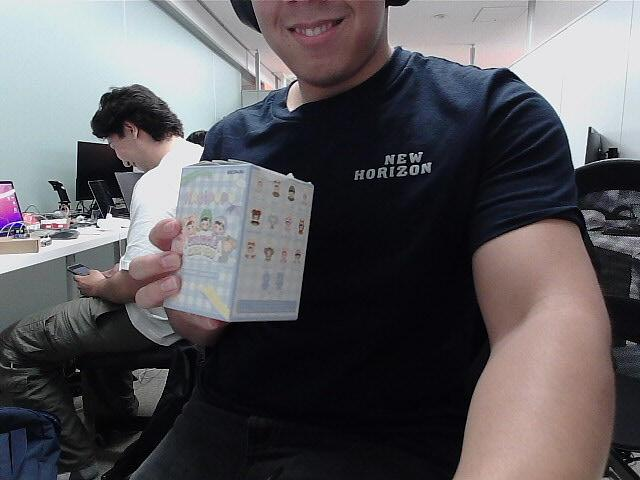Blind_box: (170, 158, 312, 329)
